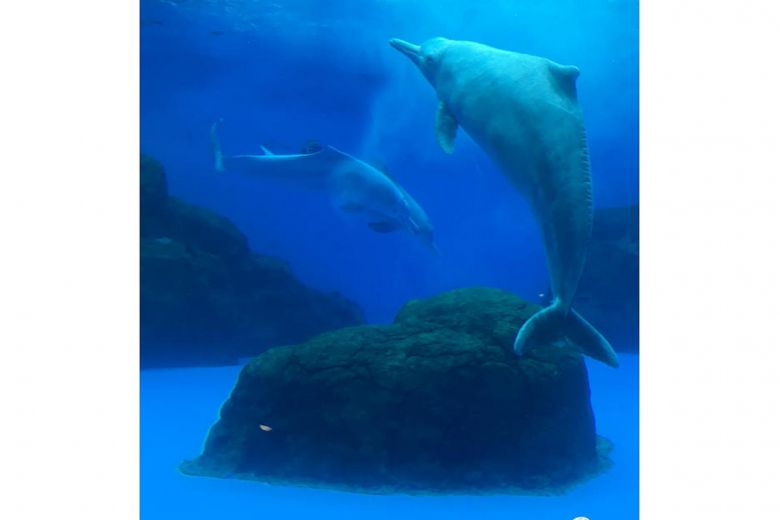dolphin: (360, 19, 632, 370), (197, 116, 464, 265)
